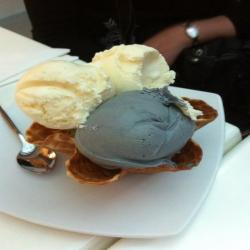icecream: (70, 84, 209, 174), (9, 50, 119, 138), (83, 38, 183, 106)
